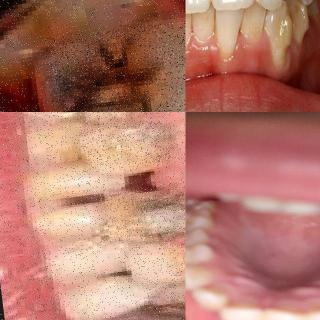Gum Swelling: (186, 33, 220, 58)
cavities: (27, 28, 183, 112), (94, 112, 178, 170), (115, 189, 185, 239), (155, 288, 185, 320)
maligned: (269, 1, 295, 70), (215, 0, 241, 62)
